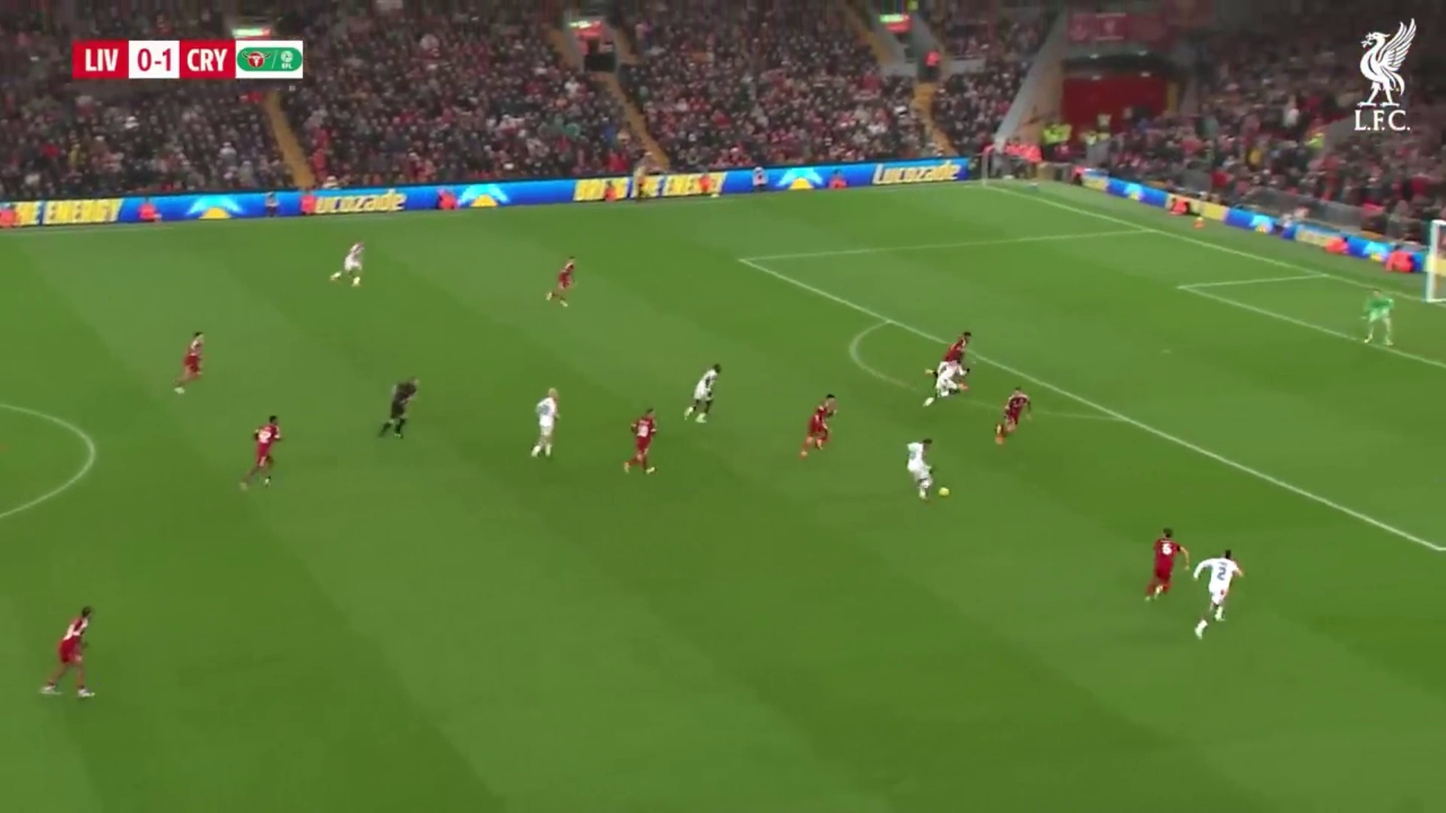player: (39, 607, 97, 699), (1191, 554, 1244, 636), (1144, 528, 1188, 602), (926, 333, 973, 402), (238, 417, 281, 490), (904, 438, 948, 502), (800, 393, 838, 457), (382, 378, 419, 438), (687, 363, 722, 425), (994, 390, 1032, 446), (532, 386, 560, 459), (175, 331, 206, 395), (629, 407, 658, 474), (1363, 293, 1396, 350), (329, 240, 366, 287), (545, 258, 578, 310)
